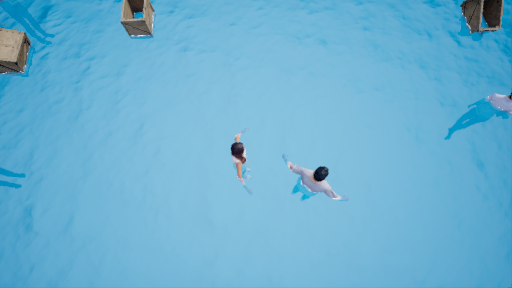person: (450, 90, 512, 142), (285, 160, 344, 208), (226, 136, 257, 196)
